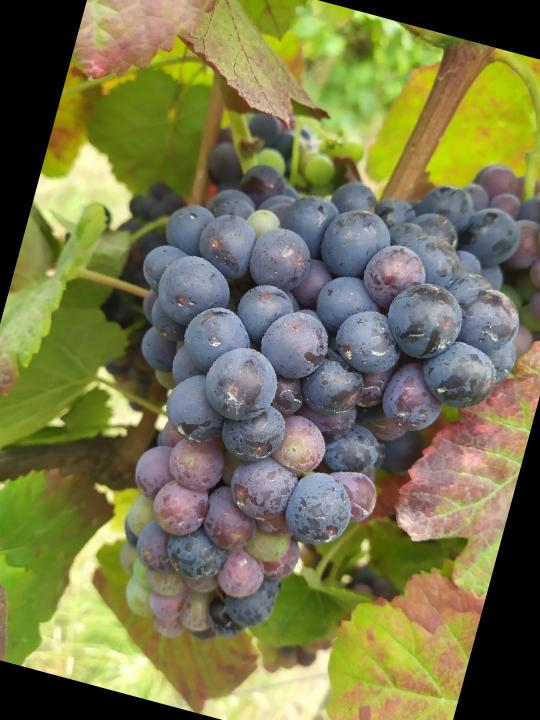grape: (49, 136, 540, 708)
